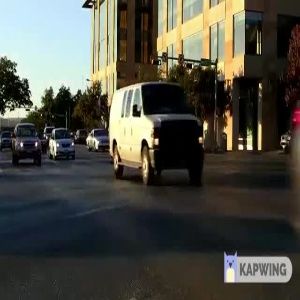car: (45, 123, 76, 160)
suv: (8, 116, 44, 166)
van: (99, 76, 208, 187)
